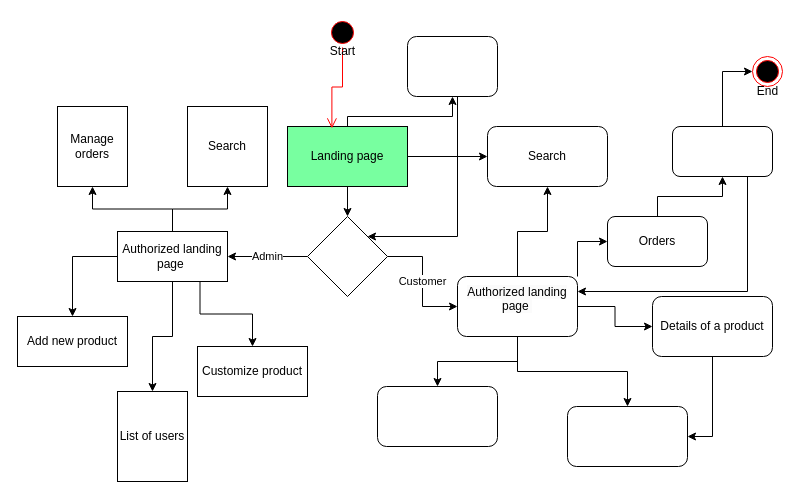
Some shapes in this 805 by 499 pixel diagram are drawn without their labels. Here are the shapes that lost their labels. From the top down, the box of each, then its label:
(406, 36, 498, 96): Register
(672, 126, 772, 176): Payment
(306, 216, 388, 296): Log in
(376, 386, 498, 446): Customize profile
(566, 406, 688, 466): Add to cart
